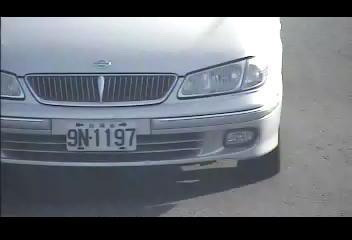plate: (63, 121, 138, 153)
